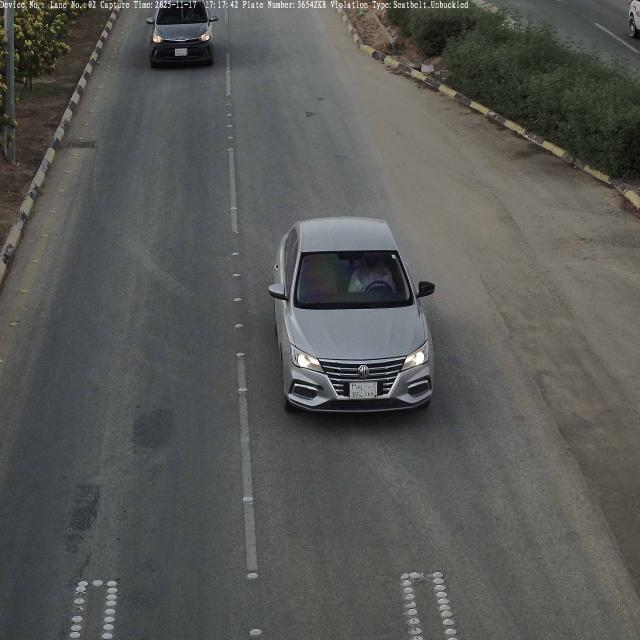person_without_seatbelt: (353, 255, 397, 290)
